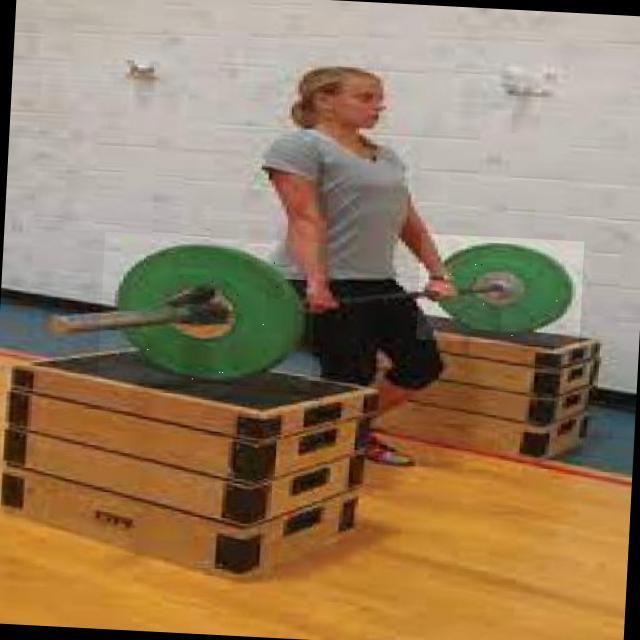barbell: (99, 233, 319, 393), (418, 235, 586, 349)
